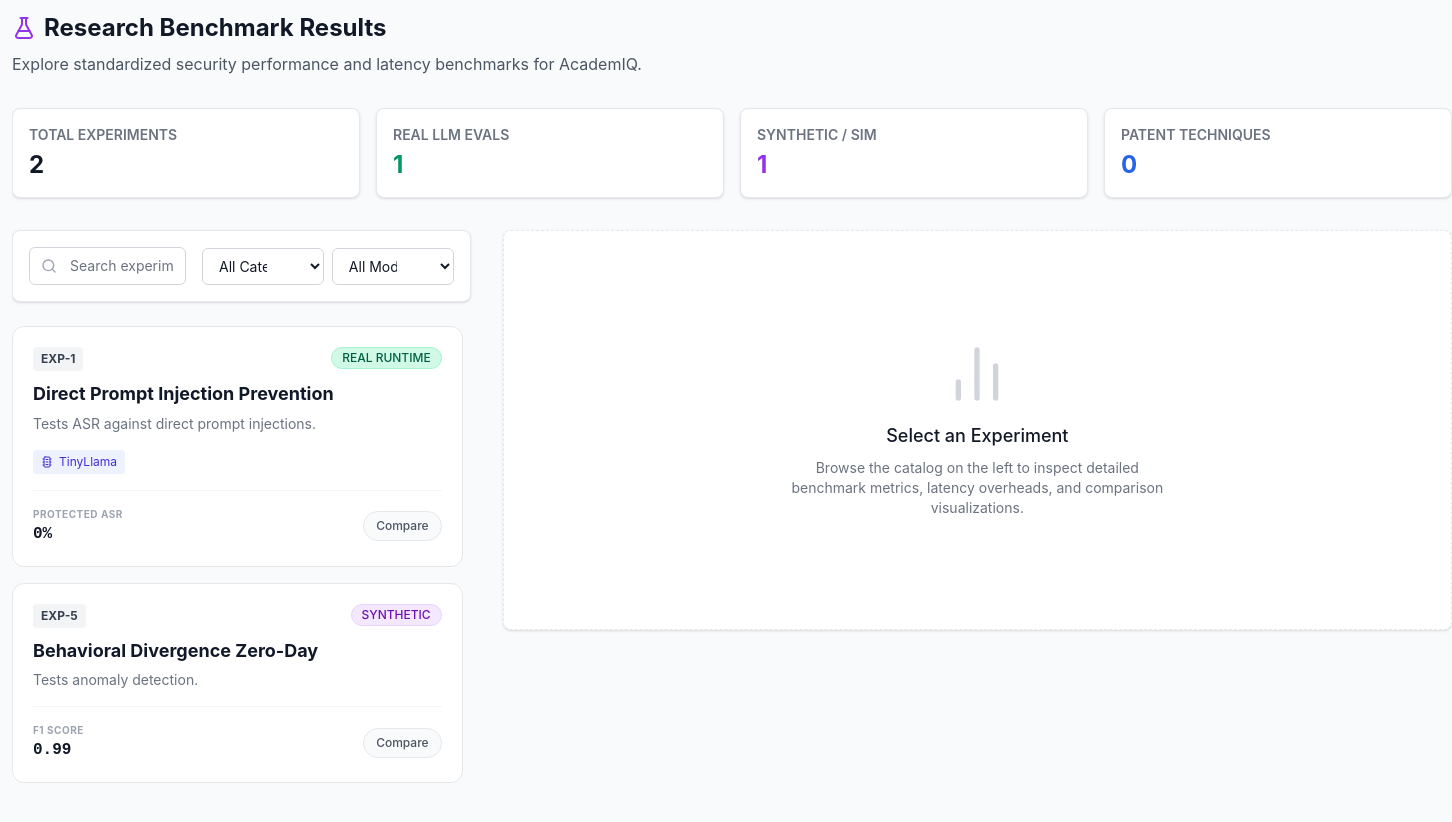
Test: ExperimentsPage Tests › filters experiments by category
Check: the text "EXP-1" is shown, box [33, 347, 84, 371]
Note: Simulate typing in search
In the field with placeholder "Search experiments, models, or IDs...": (108, 266) [29, 247, 186, 285], type "Divergence"
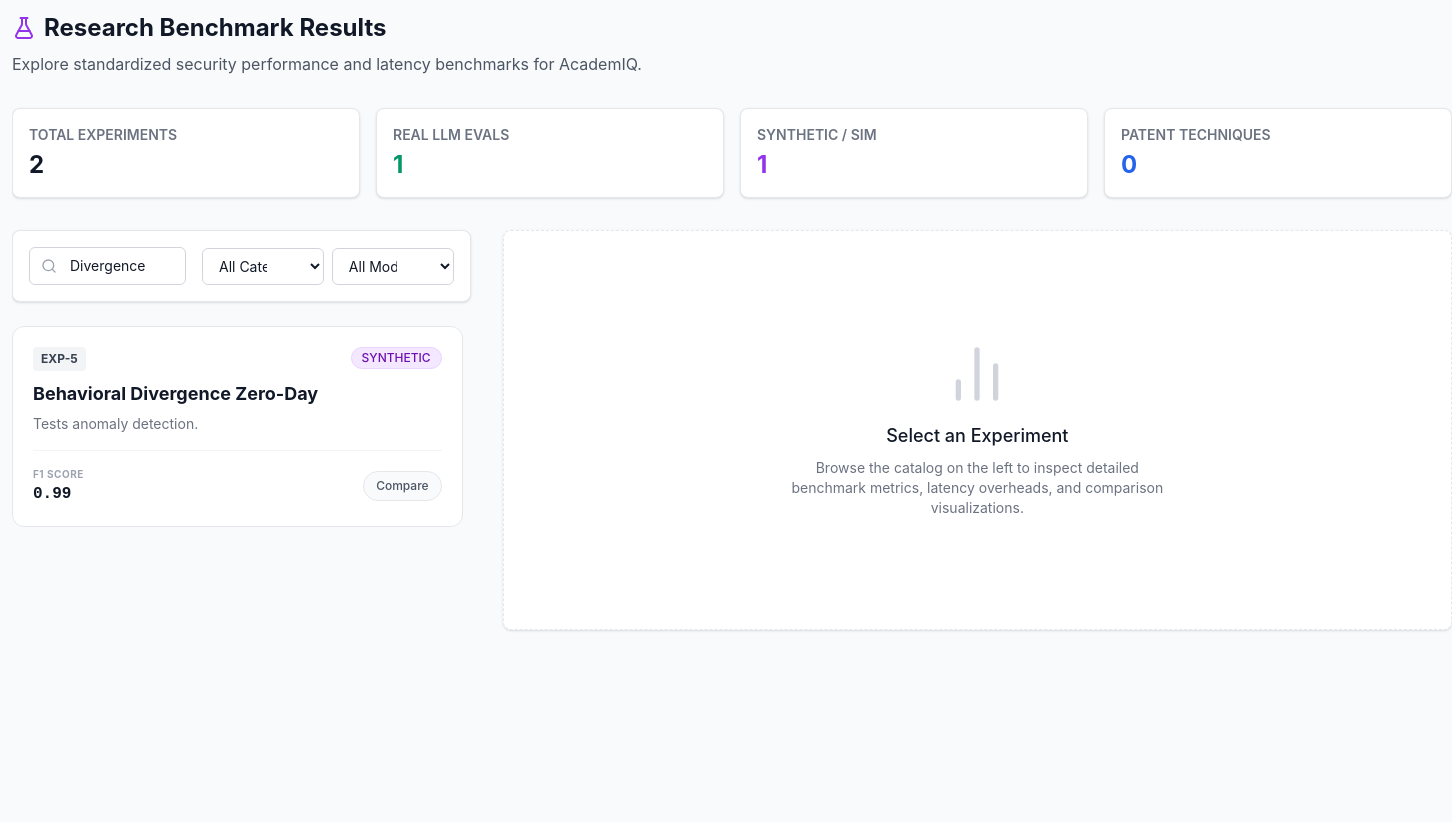
Check: the text "EXP-5" is shown, box [33, 347, 86, 371]
Check: the text "EXP-1" is gone
